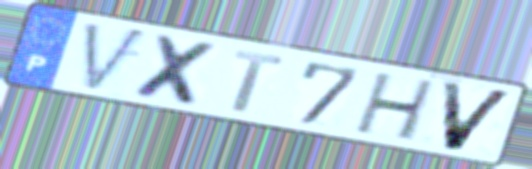7: (296, 59, 365, 127)
H: (349, 71, 440, 145)
T: (229, 49, 288, 116)
V: (438, 78, 519, 154), (81, 19, 152, 96)
X: (129, 31, 224, 111)
